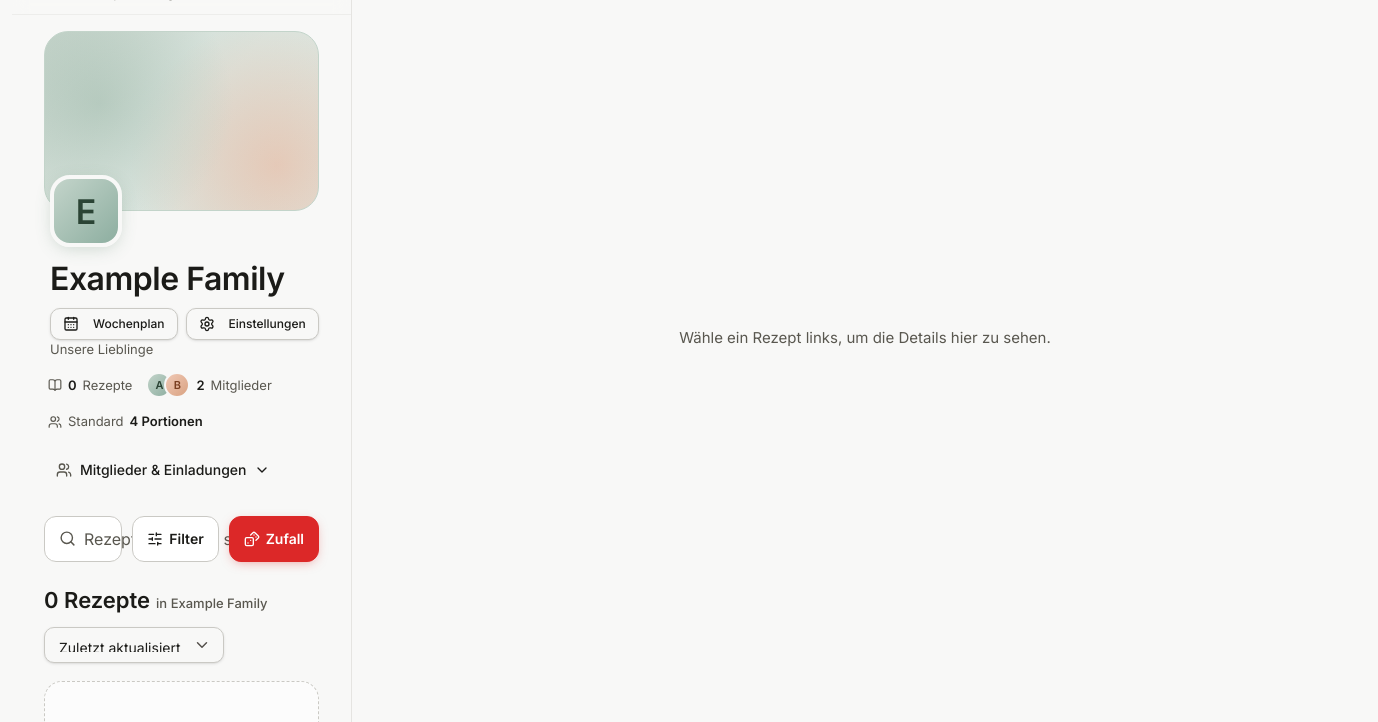
Test case: <GroupDetailPage /> › picking a sort writes ?sort=title_asc&page=1 to the URL (PAGE-1)
Select "Titel A-Z" in the dropdown named "sortierung" at [134, 645], box [44,627,224,663]
(page scrolled)
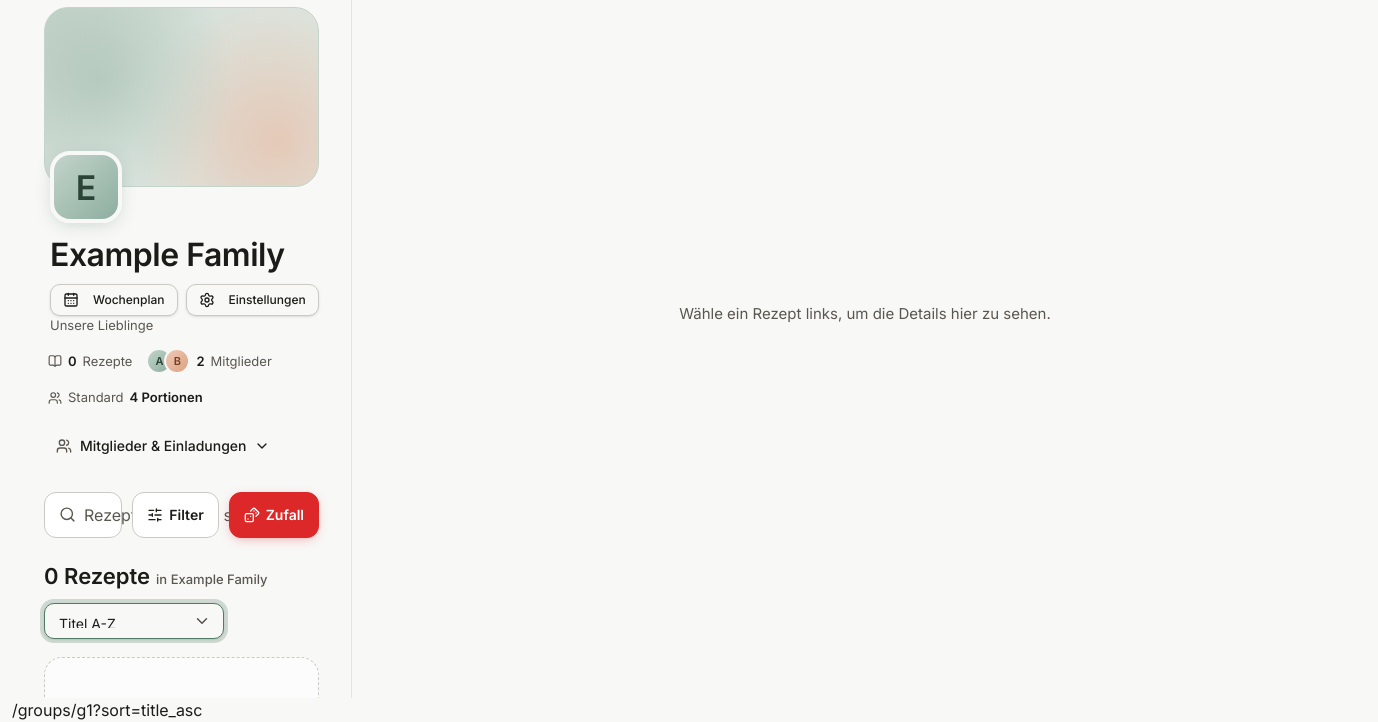
Expected: the text with test id "location-probe" shows "sort=title_asc", [93,700,202,720]
